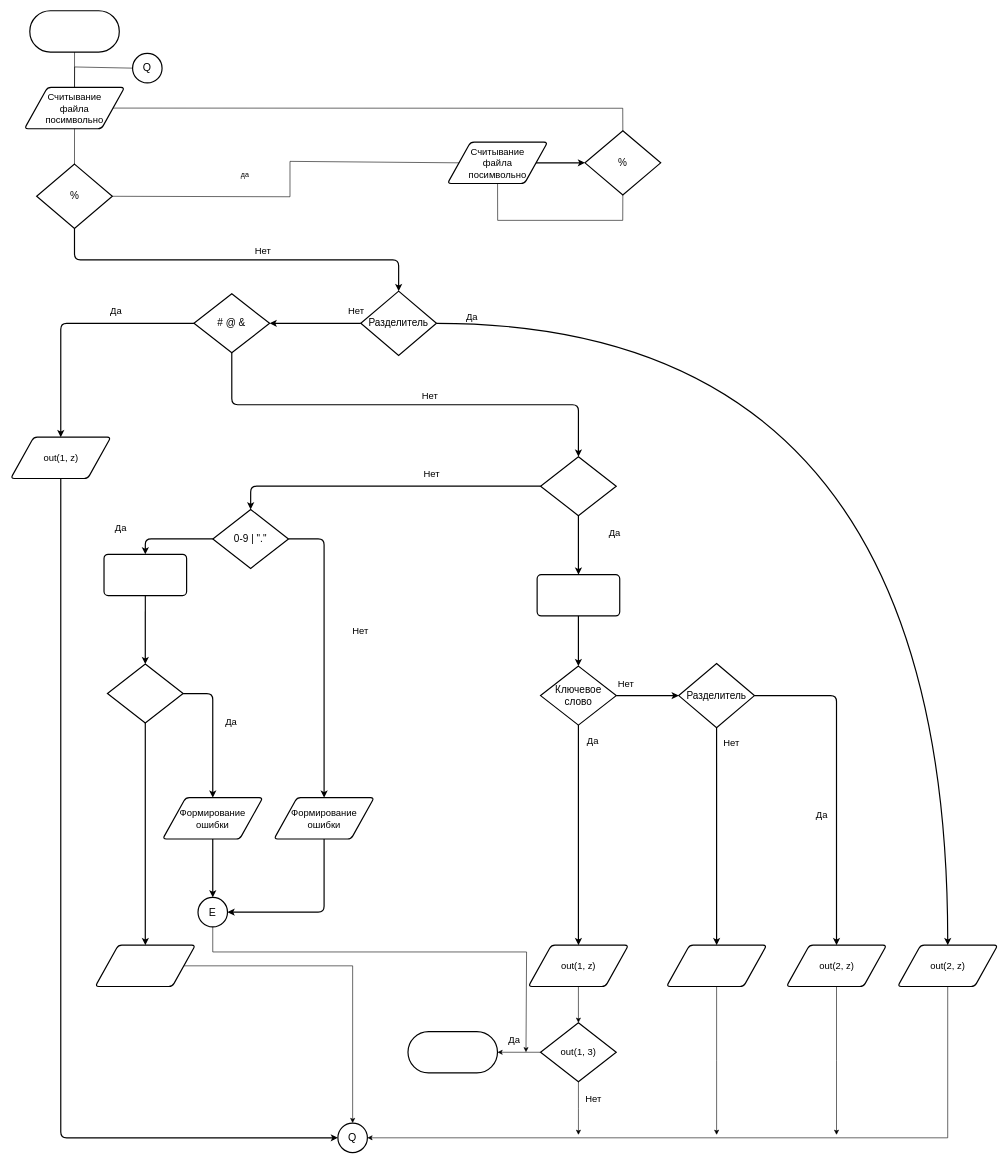
Image size: 1008x1163. Some labels were removed from this diagram. Here are the shapes that lost their labels. From the top down, the centre of each, then its label:
the point at 74,31: Лексический анализатор
the point at 578,486: a-z | A-Z
the point at 145,574: Проверка чисел
the point at 578,595: Чтение строки
the point at 145,693: Ошибка
the point at 145,965: out(3, z)
the point at 716,965: out(4, z)
the point at 452,1052: Конец лексического анализатора
